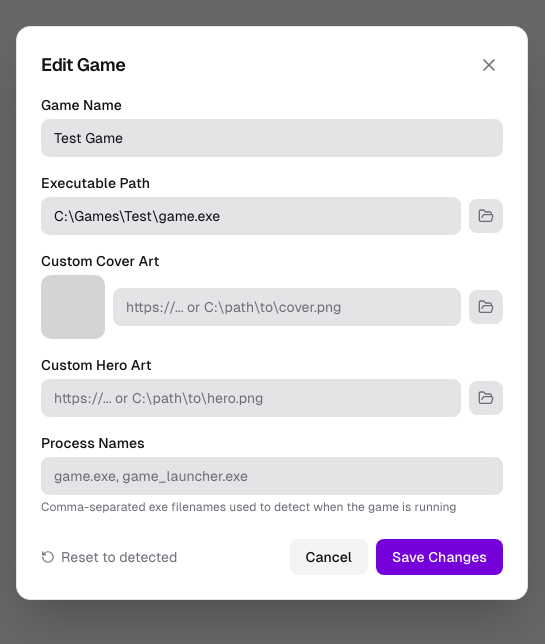
Story 7.4: Edit Game Modal › validates empty name
The width and height of the screenshot is (545, 644).
Clear the field with test id "edit-name" at (272, 138), box left=41, top=119, right=503, bottom=157
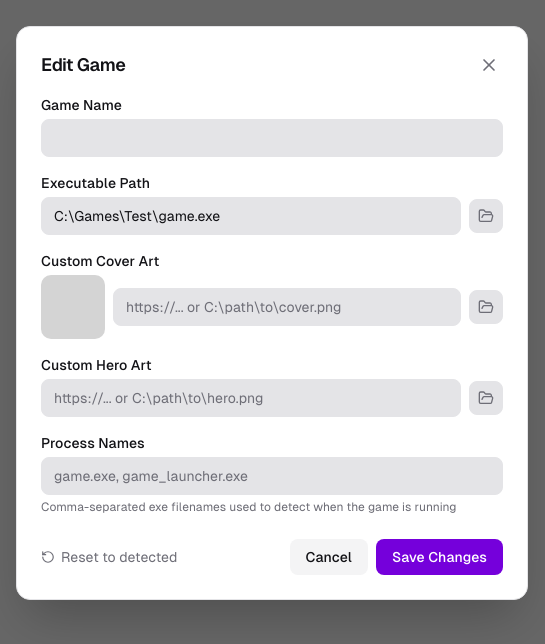
Click the button with test id "edit-save" at (440, 557), box left=376, top=539, right=503, bottom=575
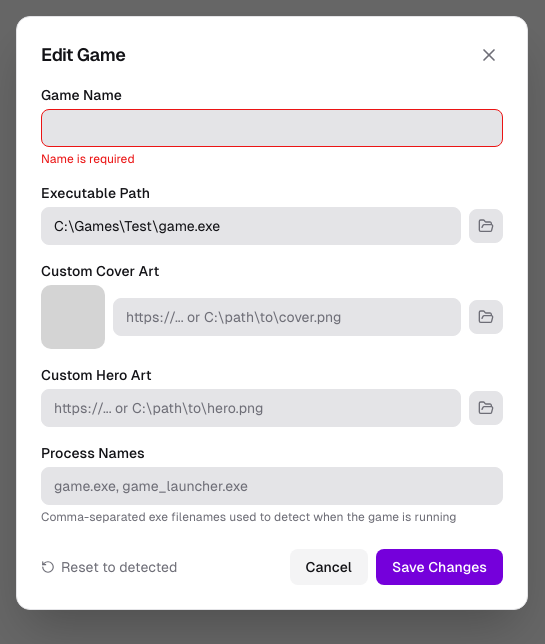
Result: the text with test id "edit-name-error" reads "Name is required" at left=41, top=152, right=135, bottom=166
